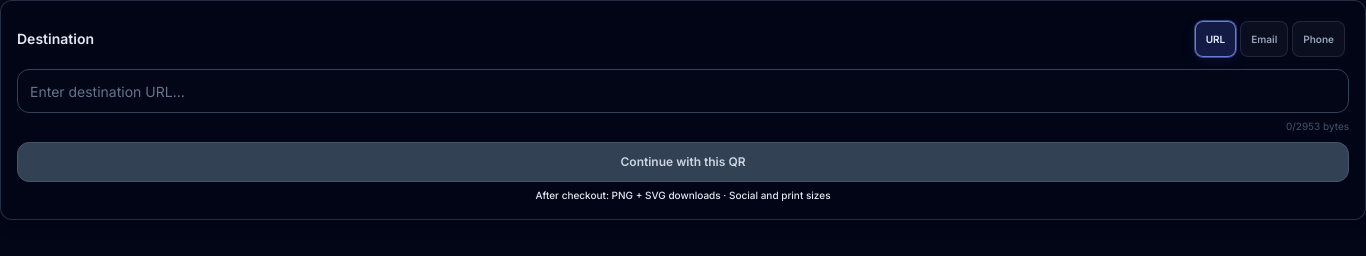
PayloadInput › keeps typed content as a draft through public checkout handoff
In the field: (683, 91) [17,69,1349,113], type "example.com"
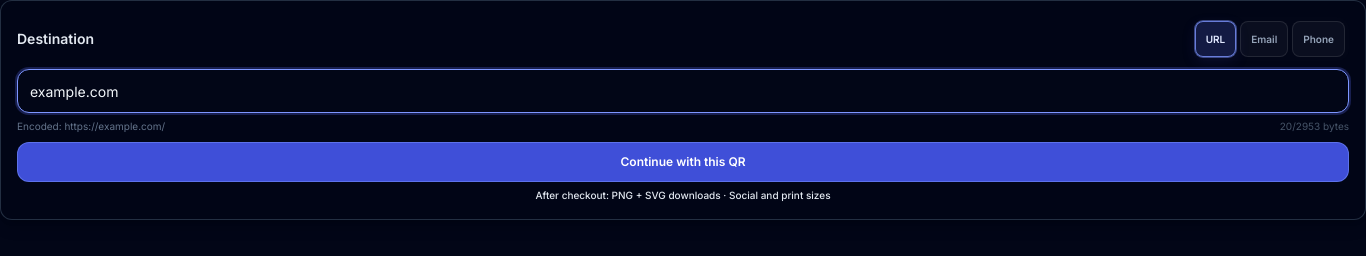
Expected: the text "Encoded: https://example.com/" is shown, [17,119,165,134]
Expected: the button "Continue with this QR" is enabled
Click the button "Continue with this QR": (683, 162) [17,142,1349,182]
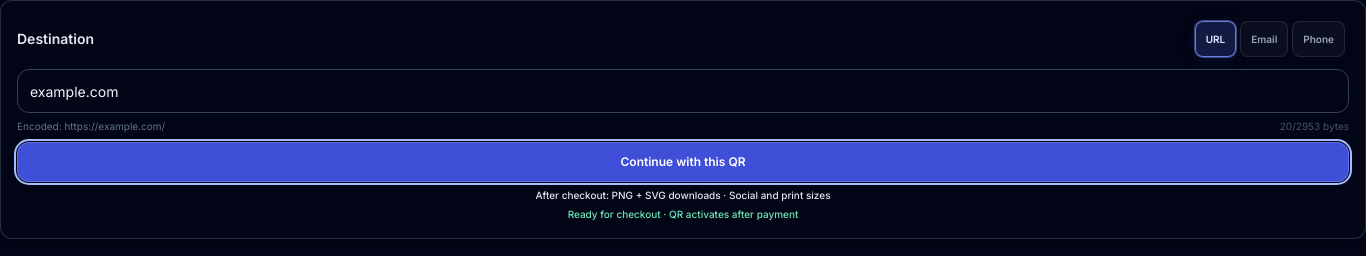
Expected: the message reads "Ready for checkout · QR activates after payment", [568,208,798,220]
